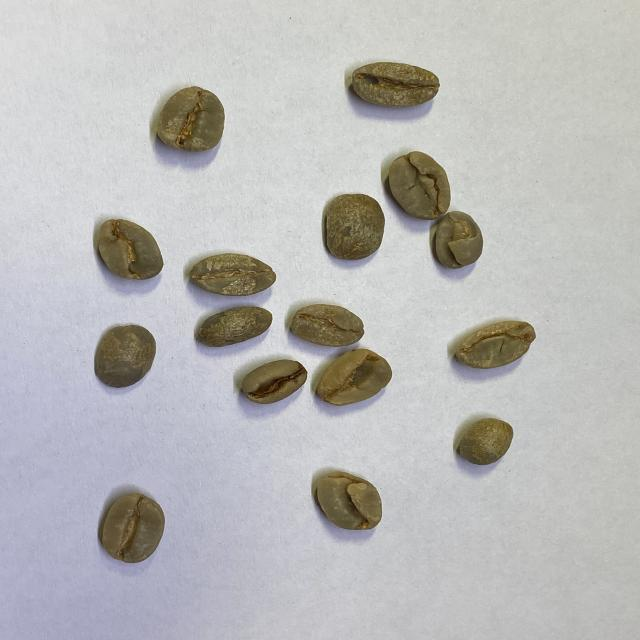bad: (387, 151, 452, 219), (96, 218, 164, 282), (323, 194, 385, 262), (188, 254, 280, 298), (316, 471, 382, 532), (454, 320, 536, 369), (430, 211, 484, 271), (240, 359, 306, 404)
good: (98, 493, 166, 564), (347, 61, 441, 112), (155, 85, 225, 152), (314, 348, 393, 407), (94, 324, 157, 390), (291, 301, 366, 347), (195, 304, 272, 348), (455, 417, 514, 465)
